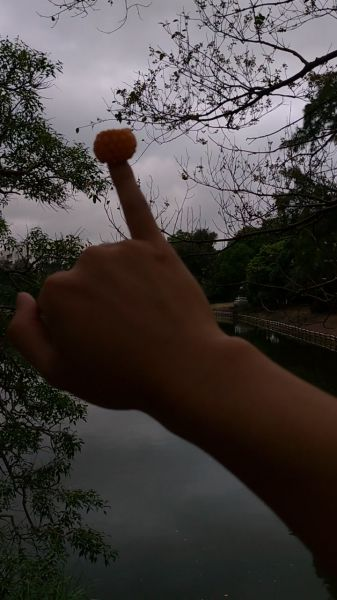eggs: (92, 129, 138, 163)
